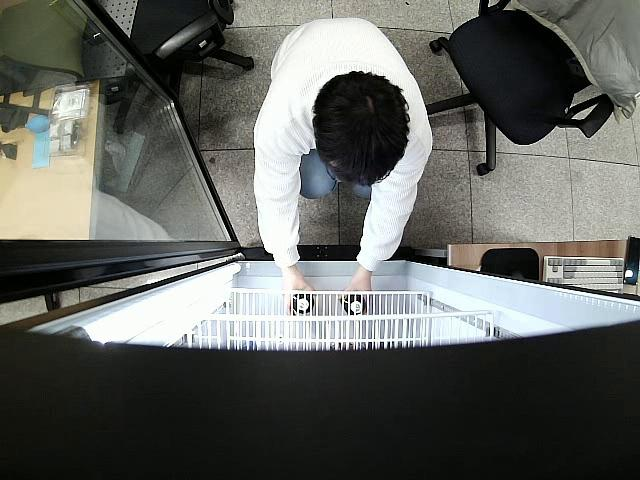00_hand: (279, 272, 316, 314), (339, 271, 371, 306)
19_17cha: (291, 293, 316, 316), (340, 294, 366, 316)
